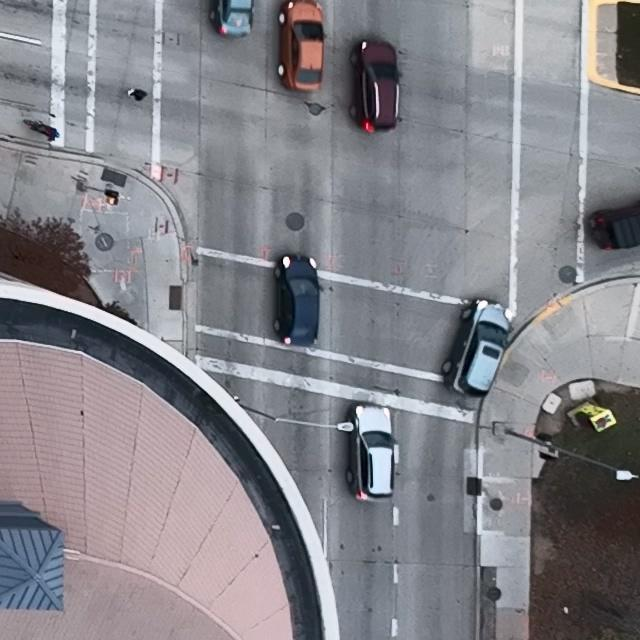car: (442, 297, 513, 397), (347, 403, 397, 502), (349, 38, 401, 133), (277, 0, 328, 92), (273, 256, 323, 344), (209, 0, 256, 37)
